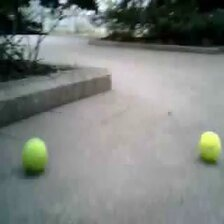tennis: (22, 138, 47, 172), (198, 133, 220, 160)
